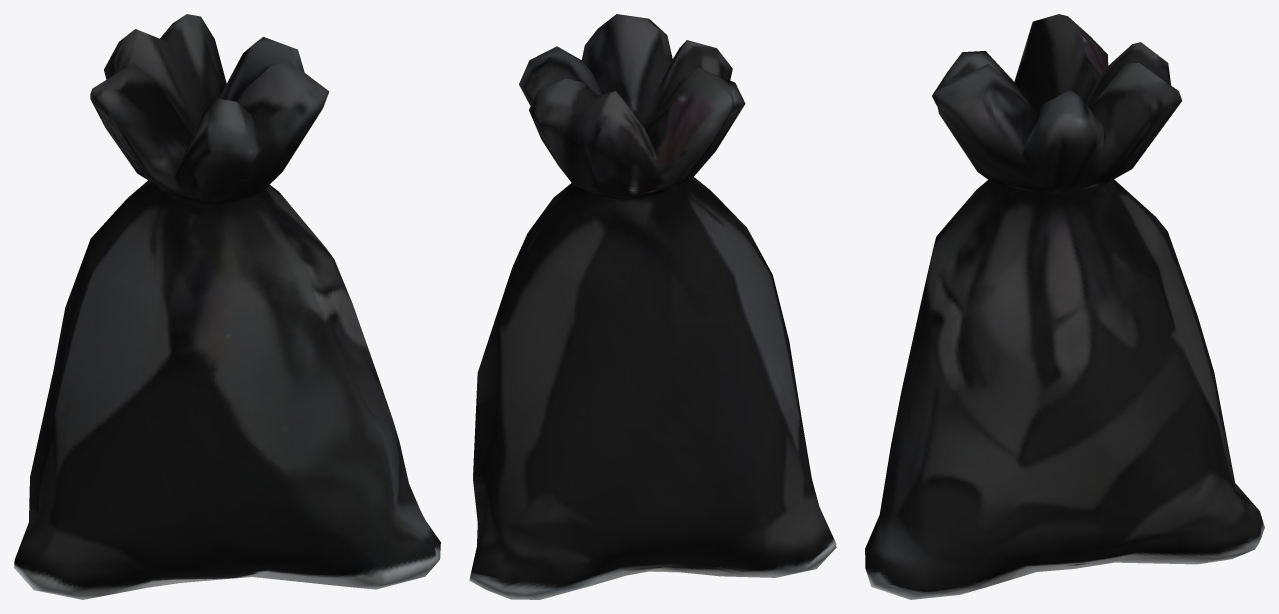
File: Trash.fbx
3 views of the same model, side by side, from view 1: azimuth 30°, elevation 25°; view 2: azimuth 150°, elevation 25°; view 3: azimuth 270°, elevation 25° (orthographic). The views are drawn at different scales.
Parts seen in each view (by area): view 1: tripo_node_cc436b14; view 2: tripo_node_cc436b14; view 3: tripo_node_cc436b14.
Part boxes in pixels (x1,y1,x2,y2): tripo_node_cc436b14: (14,14,440,599); tripo_node_cc436b14: (469,14,836,599); tripo_node_cc436b14: (865,14,1264,599).
Bounding box in the file's own units: 12.02 × 17.06 × 12.27.
Materials: 1 (1 with a texture image).
